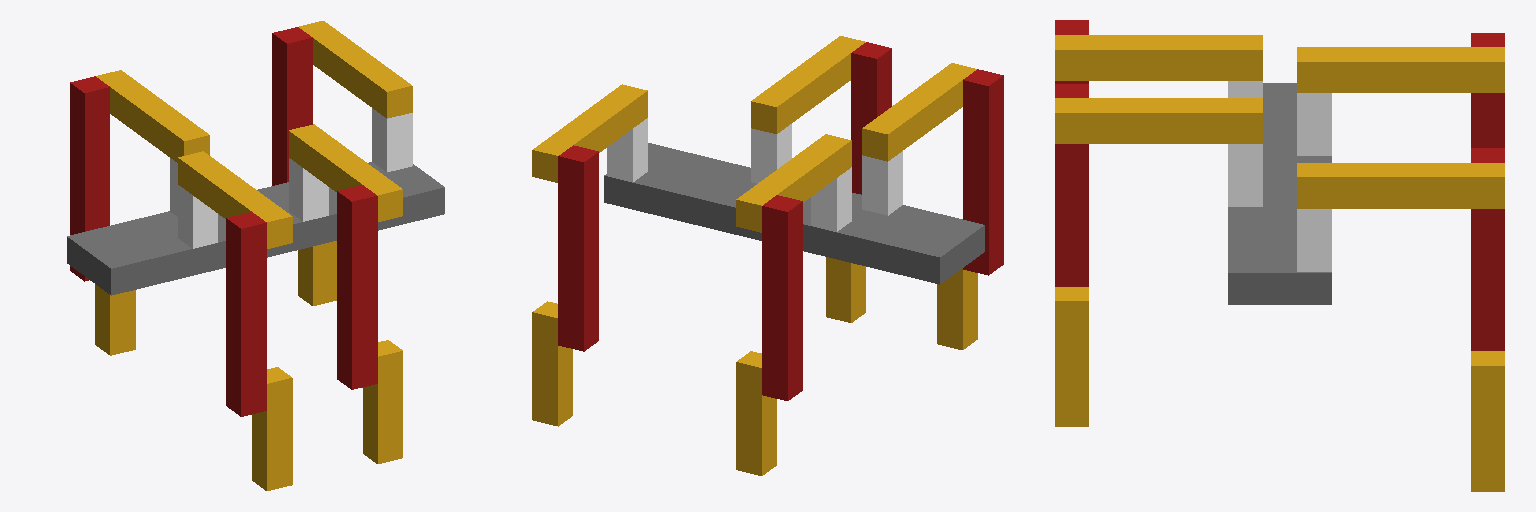
URDF robot description (v0):
<?xml version="1.0" encoding="utf-8"?>
<!-- =================================================================================== -->
<!-- |    This document was autogenerated by xacro from ../robots/v0variants/xacros/v0_4l_29.xacro | -->
<!-- |    EDITING THIS FILE BY HAND IS NOT RECOMMENDED                                 | -->
<!-- =================================================================================== -->
<robot name="v0">
  <material name="grey">
    <color rgba="0.5 0.5 0.5 1"/>
  </material>
  <material name="white">
    <color rgba="1 1 1 1"/>
  </material>
  <material name="yellow">
    <color rgba="0.91 0.7 0.14 1"/>
  </material>
  <material name="red">
    <color rgba="0.71 0.14 0.14 1"/>
  </material>
  <link name="body">
    <visual>
      <geometry>
        <box size="1.3 0.3 0.1"/>
      </geometry>
      <material name="grey"/>
      <origin rpy="0 0 0" xyz="0 0 0.7"/>
    </visual>
    <collision>
      <geometry>
        <box size="1.3 0.3 0.1"/>
      </geometry>
      <origin rpy="0 0 0" xyz="0 0 0.7"/>
    </collision>
    <inertial>
      <mass value="99.84"/>
      <inertia ixx="0.832" ixy="0.0" ixz="0.0" iyy="14.144" iyz="0.0" izz="14.8096"/>
    </inertial>
  </link>
  <link name="l1_segment_1">
    <visual>
      <geometry>
        <box size="0.1 0.1 0.2"/>
      </geometry>
      <material name="white"/>
      <origin rpy="0 0 0" xyz="0 0 0.1"/>
    </visual>
    <collision>
      <geometry>
        <box size="0.1 0.1 0.2"/>
      </geometry>
      <origin rpy="0 0 0" xyz="0 0 0.1"/>
    </collision>
    <inertial>
      <mass value="5.12"/>
      <inertia ixx="0.0213333333333" ixy="0.0" ixz="0.0" iyy="0.0213333333333" iyz="0.0" izz="0.00853333333333"/>
    </inertial>
  </link>
  <joint name="l1_base_to_joint_1" type="fixed">
    <parent link="body"/>
    <child link="l1_segment_1"/>
    <origin rpy="0 0 0" xyz="-0.19955909804659955 0.1 0.75"/>
  </joint>
  <link name="l1_segment_2_HIP">
    <visual>
      <geometry>
        <box size="0.1 0.6 0.1"/>
      </geometry>
      <material name="yellow"/>
      <origin rpy="0 0 0" xyz="0 0.25 0"/>
    </visual>
    <collision>
      <geometry>
        <box size="0.1 0.6 0.1"/>
      </geometry>
      <origin rpy="0 0 0" xyz="0 0.25 0"/>
    </collision>
    <inertial>
      <mass value="15.36"/>
      <inertia ixx="0.4736" ixy="0.0" ixz="0.0" iyy="0.0256" iyz="0.0" izz="0.4736"/>
    </inertial>
  </link>
  <joint name="l1_joint_1_to_2" type="revolute">
    <parent link="l1_segment_1"/>
    <child link="l1_segment_2_HIP"/>
    <origin rpy="0 0 0" xyz="0 0 0.25"/>
    <axis xyz="0.0 0.0 1.0"/>
    <limit effort="2048" lower="-1.2" upper="1.2" velocity="20"/>
  </joint>
  <link name="l1_segment_3_THIGH">
    <visual>
      <geometry>
        <box size="0.1 0.1 0.7"/>
      </geometry>
      <material name="red"/>
      <origin rpy="0 0 0" xyz="0 0 -0.3"/>
    </visual>
    <collision>
      <geometry>
        <box size="0.1 0.1 0.7"/>
      </geometry>
      <origin rpy="0 0 0" xyz="0 0 -0.3"/>
    </collision>
    <inertial>
      <mass value="17.92"/>
      <inertia ixx="0.746666666667" ixy="0.0" ixz="0.0" iyy="0.746666666667" iyz="0.0" izz="0.0298666666667"/>
    </inertial>
  </link>
  <joint name="l1_joint_2_to_3" type="revolute">
    <parent link="l1_segment_2_HIP"/>
    <child link="l1_segment_3_THIGH"/>
    <origin rpy="0 0 0" xyz="-0.1 0.5 0"/>
    <axis xyz="1.0 0.0 0.0"/>
    <limit effort="2048" lower="-0.2" upper="0.75" velocity="20"/>
  </joint>
  <link name="l1_segment_4_FOOT">
    <visual>
      <geometry>
        <box size="0.1 0.1 0.4"/>
      </geometry>
      <material name="yellow"/>
      <origin rpy="0 0 0" xyz="0 0 -0.2"/>
    </visual>
    <collision>
      <geometry>
        <box size="0.1 0.1 0.4"/>
      </geometry>
      <origin rpy="0 0 0" xyz="0 0 -0.2"/>
    </collision>
    <inertial>
      <mass value="10.24"/>
      <inertia ixx="0.145066666667" ixy="0.0" ixz="0.0" iyy="0.145066666667" iyz="0.0" izz="0.0170666666667"/>
    </inertial>
  </link>
  <joint name="l1_joint_3_to_4_FOOT" type="revolute">
    <parent link="l1_segment_3_THIGH"/>
    <child link="l1_segment_4_FOOT"/>
    <origin rpy="0 0 0" xyz="0.1 0 -0.55"/>
    <axis xyz="1.0 0.0 0.0"/>
    <limit effort="2048" lower="-0.2" upper="0.5" velocity="20"/>
  </joint>
  <link name="r2_segment_1">
    <visual>
      <geometry>
        <box size="0.1 0.1 0.2"/>
      </geometry>
      <material name="white"/>
      <origin rpy="0 0 0" xyz="0 0 0.1"/>
    </visual>
    <collision>
      <geometry>
        <box size="0.1 0.1 0.2"/>
      </geometry>
      <origin rpy="0 0 0" xyz="0 0 0.1"/>
    </collision>
    <inertial>
      <mass value="5.12"/>
      <inertia ixx="0.0213333333333" ixy="0.0" ixz="0.0" iyy="0.0213333333333" iyz="0.0" izz="0.00853333333333"/>
    </inertial>
  </link>
  <joint name="r2_base_to_joint_1" type="fixed">
    <parent link="body"/>
    <child link="r2_segment_1"/>
    <origin rpy="0 0 0" xyz="0.147642202921486 -0.1 0.75"/>
  </joint>
  <link name="r2_segment_2_HIP">
    <visual>
      <geometry>
        <box size="0.1 0.6 0.1"/>
      </geometry>
      <material name="yellow"/>
      <origin rpy="0 0 0" xyz="0 -0.25 0"/>
    </visual>
    <collision>
      <geometry>
        <box size="0.1 0.6 0.1"/>
      </geometry>
      <origin rpy="0 0 0" xyz="0 -0.25 0"/>
    </collision>
    <inertial>
      <mass value="15.36"/>
      <inertia ixx="0.4736" ixy="0.0" ixz="0.0" iyy="0.0256" iyz="0.0" izz="0.4736"/>
    </inertial>
  </link>
  <joint name="r2_joint_1_to_2" type="revolute">
    <parent link="r2_segment_1"/>
    <child link="r2_segment_2_HIP"/>
    <origin rpy="0 0 0" xyz="0 0 0.25"/>
    <axis xyz="0.0 0.0 1.0"/>
    <limit effort="2048" lower="-1.2" upper="1.2" velocity="20"/>
  </joint>
  <link name="r2_segment_3_THIGH">
    <visual>
      <geometry>
        <box size="0.1 0.1 0.7"/>
      </geometry>
      <material name="red"/>
      <origin rpy="0 0 0" xyz="0 0 -0.3"/>
    </visual>
    <collision>
      <geometry>
        <box size="0.1 0.1 0.7"/>
      </geometry>
      <origin rpy="0 0 0" xyz="0 0 -0.3"/>
    </collision>
    <inertial>
      <mass value="17.92"/>
      <inertia ixx="0.746666666667" ixy="0.0" ixz="0.0" iyy="0.746666666667" iyz="0.0" izz="0.0298666666667"/>
    </inertial>
  </link>
  <joint name="r2_joint_2_to_3" type="revolute">
    <parent link="r2_segment_2_HIP"/>
    <child link="r2_segment_3_THIGH"/>
    <origin rpy="0 0 0" xyz="-0.1 -0.5 0"/>
    <axis xyz="1.0 0.0 0.0"/>
    <limit effort="2048" lower="-0.75" upper="0.2" velocity="20"/>
  </joint>
  <link name="r2_segment_4_FOOT">
    <visual>
      <geometry>
        <box size="0.1 0.1 0.4"/>
      </geometry>
      <material name="yellow"/>
      <origin rpy="0 0 0" xyz="0 0 -0.2"/>
    </visual>
    <collision>
      <geometry>
        <box size="0.1 0.1 0.4"/>
      </geometry>
      <origin rpy="0 0 0" xyz="0 0 -0.2"/>
    </collision>
    <inertial>
      <mass value="10.24"/>
      <inertia ixx="0.145066666667" ixy="0.0" ixz="0.0" iyy="0.145066666667" iyz="0.0" izz="0.0170666666667"/>
    </inertial>
  </link>
  <joint name="r2_joint_3_to_4_FOOT" type="revolute">
    <parent link="r2_segment_3_THIGH"/>
    <child link="r2_segment_4_FOOT"/>
    <origin rpy="0 0 0" xyz="0.1 0 -0.55"/>
    <axis xyz="1.0 0.0 0.0"/>
    <limit effort="2048" lower="-0.5" upper="0.2" velocity="20"/>
  </joint>
  <link name="l3_segment_1">
    <visual>
      <geometry>
        <box size="0.1 0.1 0.2"/>
      </geometry>
      <material name="white"/>
      <origin rpy="0 0 0" xyz="0 0 0.1"/>
    </visual>
    <collision>
      <geometry>
        <box size="0.1 0.1 0.2"/>
      </geometry>
      <origin rpy="0 0 0" xyz="0 0 0.1"/>
    </collision>
    <inertial>
      <mass value="5.12"/>
      <inertia ixx="0.0213333333333" ixy="0.0" ixz="0.0" iyy="0.0213333333333" iyz="0.0" izz="0.00853333333333"/>
    </inertial>
  </link>
  <joint name="l3_base_to_joint_1" type="fixed">
    <parent link="body"/>
    <child link="l3_segment_1"/>
    <origin rpy="0 0 0" xyz="0.5884262026182484 0.1 0.75"/>
  </joint>
  <link name="l3_segment_2_HIP">
    <visual>
      <geometry>
        <box size="0.1 0.6 0.1"/>
      </geometry>
      <material name="yellow"/>
      <origin rpy="0 0 0" xyz="0 0.25 0"/>
    </visual>
    <collision>
      <geometry>
        <box size="0.1 0.6 0.1"/>
      </geometry>
      <origin rpy="0 0 0" xyz="0 0.25 0"/>
    </collision>
    <inertial>
      <mass value="15.36"/>
      <inertia ixx="0.4736" ixy="0.0" ixz="0.0" iyy="0.0256" iyz="0.0" izz="0.4736"/>
    </inertial>
  </link>
  <joint name="l3_joint_1_to_2" type="revolute">
    <parent link="l3_segment_1"/>
    <child link="l3_segment_2_HIP"/>
    <origin rpy="0 0 0" xyz="0 0 0.25"/>
    <axis xyz="0.0 0.0 1.0"/>
    <limit effort="2048" lower="-1.2" upper="1.2" velocity="20"/>
  </joint>
  <link name="l3_segment_3_THIGH">
    <visual>
      <geometry>
        <box size="0.1 0.1 0.7"/>
      </geometry>
      <material name="red"/>
      <origin rpy="0 0 0" xyz="0 0 -0.3"/>
    </visual>
    <collision>
      <geometry>
        <box size="0.1 0.1 0.7"/>
      </geometry>
      <origin rpy="0 0 0" xyz="0 0 -0.3"/>
    </collision>
    <inertial>
      <mass value="17.92"/>
      <inertia ixx="0.746666666667" ixy="0.0" ixz="0.0" iyy="0.746666666667" iyz="0.0" izz="0.0298666666667"/>
    </inertial>
  </link>
  <joint name="l3_joint_2_to_3" type="revolute">
    <parent link="l3_segment_2_HIP"/>
    <child link="l3_segment_3_THIGH"/>
    <origin rpy="0 0 0" xyz="-0.1 0.5 0"/>
    <axis xyz="1.0 0.0 0.0"/>
    <limit effort="2048" lower="-0.2" upper="0.75" velocity="20"/>
  </joint>
  <link name="l3_segment_4_FOOT">
    <visual>
      <geometry>
        <box size="0.1 0.1 0.4"/>
      </geometry>
      <material name="yellow"/>
      <origin rpy="0 0 0" xyz="0 0 -0.2"/>
    </visual>
    <collision>
      <geometry>
        <box size="0.1 0.1 0.4"/>
      </geometry>
      <origin rpy="0 0 0" xyz="0 0 -0.2"/>
    </collision>
    <inertial>
      <mass value="10.24"/>
      <inertia ixx="0.145066666667" ixy="0.0" ixz="0.0" iyy="0.145066666667" iyz="0.0" izz="0.0170666666667"/>
    </inertial>
  </link>
  <joint name="l3_joint_3_to_4_FOOT" type="revolute">
    <parent link="l3_segment_3_THIGH"/>
    <child link="l3_segment_4_FOOT"/>
    <origin rpy="0 0 0" xyz="0.1 0 -0.55"/>
    <axis xyz="1.0 0.0 0.0"/>
    <limit effort="2048" lower="-0.2" upper="0.5" velocity="20"/>
  </joint>
  <link name="r4_segment_1">
    <visual>
      <geometry>
        <box size="0.1 0.1 0.2"/>
      </geometry>
      <material name="white"/>
      <origin rpy="0 0 0" xyz="0 0 0.1"/>
    </visual>
    <collision>
      <geometry>
        <box size="0.1 0.1 0.2"/>
      </geometry>
      <origin rpy="0 0 0" xyz="0 0 0.1"/>
    </collision>
    <inertial>
      <mass value="5.12"/>
      <inertia ixx="0.0213333333333" ixy="0.0" ixz="0.0" iyy="0.0213333333333" iyz="0.0" izz="0.00853333333333"/>
    </inertial>
  </link>
  <joint name="r4_base_to_joint_1" type="fixed">
    <parent link="body"/>
    <child link="r4_segment_1"/>
    <origin rpy="0 0 0" xyz="-0.2830087958097117 -0.1 0.75"/>
  </joint>
  <link name="r4_segment_2_HIP">
    <visual>
      <geometry>
        <box size="0.1 0.6 0.1"/>
      </geometry>
      <material name="yellow"/>
      <origin rpy="0 0 0" xyz="0 -0.25 0"/>
    </visual>
    <collision>
      <geometry>
        <box size="0.1 0.6 0.1"/>
      </geometry>
      <origin rpy="0 0 0" xyz="0 -0.25 0"/>
    </collision>
    <inertial>
      <mass value="15.36"/>
      <inertia ixx="0.4736" ixy="0.0" ixz="0.0" iyy="0.0256" iyz="0.0" izz="0.4736"/>
    </inertial>
  </link>
  <joint name="r4_joint_1_to_2" type="revolute">
    <parent link="r4_segment_1"/>
    <child link="r4_segment_2_HIP"/>
    <origin rpy="0 0 0" xyz="0 0 0.25"/>
    <axis xyz="0.0 0.0 1.0"/>
    <limit effort="2048" lower="-1.2" upper="1.2" velocity="20"/>
  </joint>
  <link name="r4_segment_3_THIGH">
    <visual>
      <geometry>
        <box size="0.1 0.1 0.7"/>
      </geometry>
      <material name="red"/>
      <origin rpy="0 0 0" xyz="0 0 -0.3"/>
    </visual>
    <collision>
      <geometry>
        <box size="0.1 0.1 0.7"/>
      </geometry>
      <origin rpy="0 0 0" xyz="0 0 -0.3"/>
    </collision>
    <inertial>
      <mass value="17.92"/>
      <inertia ixx="0.746666666667" ixy="0.0" ixz="0.0" iyy="0.746666666667" iyz="0.0" izz="0.0298666666667"/>
    </inertial>
  </link>
  <joint name="r4_joint_2_to_3" type="revolute">
    <parent link="r4_segment_2_HIP"/>
    <child link="r4_segment_3_THIGH"/>
    <origin rpy="0 0 0" xyz="-0.1 -0.5 0"/>
    <axis xyz="1.0 0.0 0.0"/>
    <limit effort="2048" lower="-0.75" upper="0.2" velocity="20"/>
  </joint>
  <link name="r4_segment_4_FOOT">
    <visual>
      <geometry>
        <box size="0.1 0.1 0.4"/>
      </geometry>
      <material name="yellow"/>
      <origin rpy="0 0 0" xyz="0 0 -0.2"/>
    </visual>
    <collision>
      <geometry>
        <box size="0.1 0.1 0.4"/>
      </geometry>
      <origin rpy="0 0 0" xyz="0 0 -0.2"/>
    </collision>
    <inertial>
      <mass value="10.24"/>
      <inertia ixx="0.145066666667" ixy="0.0" ixz="0.0" iyy="0.145066666667" iyz="0.0" izz="0.0170666666667"/>
    </inertial>
  </link>
  <joint name="r4_joint_3_to_4_FOOT" type="revolute">
    <parent link="r4_segment_3_THIGH"/>
    <child link="r4_segment_4_FOOT"/>
    <origin rpy="0 0 0" xyz="0.1 0 -0.55"/>
    <axis xyz="1.0 0.0 0.0"/>
    <limit effort="2048" lower="-0.5" upper="0.2" velocity="20"/>
  </joint>
</robot>

--- Facts derived from the render (not from the file) ---
3 views of the same robot in one strip: view 1: azimuth 30°, elevation 25°; view 2: azimuth 150°, elevation 25°; view 3: azimuth 270°, elevation 25° (orthographic).
Model v0 with 17 links and 16 joints (12 revolute, 4 fixed), rooted at body, posed all joints at 0.
Visible links, largest first — view 1: body, r2_segment_3_THIGH, r4_segment_3_THIGH, l1_segment_3_THIGH, l3_segment_3_THIGH, l3_segment_2_HIP, l1_segment_2_HIP, r4_segment_2_HIP, r2_segment_2_HIP, r4_segment_4_FOOT, r2_segment_4_FOOT, l1_segment_4_FOOT (+4 smaller); view 2: body, l1_segment_3_THIGH, l3_segment_3_THIGH, r4_segment_3_THIGH, r4_segment_2_HIP, r2_segment_2_HIP, l1_segment_2_HIP, l3_segment_2_HIP, l3_segment_4_FOOT, l1_segment_4_FOOT, r2_segment_3_THIGH, r4_segment_4_FOOT (+5 smaller); view 3: body, l1_segment_2_HIP, r2_segment_2_HIP, l3_segment_2_HIP, r4_segment_2_HIP, r2_segment_3_THIGH, l3_segment_3_THIGH, l3_segment_4_FOOT, r2_segment_4_FOOT, l1_segment_3_THIGH, l1_segment_1, r2_segment_1 (+3 smaller).
Boxes of the visible links, x1,y1,x2,y2 form: body: [67, 162, 444, 295]; r2_segment_3_THIGH: [337, 185, 377, 389]; r4_segment_3_THIGH: [226, 212, 266, 416]; l1_segment_3_THIGH: [70, 76, 109, 281]; l3_segment_3_THIGH: [272, 27, 312, 185]; l3_segment_2_HIP: [299, 21, 412, 118]; l1_segment_2_HIP: [96, 70, 209, 162]; r4_segment_2_HIP: [178, 151, 292, 248]; r2_segment_2_HIP: [289, 124, 402, 221]; r4_segment_4_FOOT: [252, 367, 292, 490]; r2_segment_4_FOOT: [363, 340, 402, 463]; l1_segment_4_FOOT: [95, 284, 135, 355]; body: [604, 143, 984, 284]; l1_segment_3_THIGH: [762, 195, 802, 400]; l3_segment_3_THIGH: [558, 145, 598, 351]; r4_segment_3_THIGH: [963, 69, 1003, 275]; r4_segment_2_HIP: [862, 63, 976, 161]; r2_segment_2_HIP: [751, 36, 865, 133]; l1_segment_2_HIP: [736, 134, 851, 232]; l3_segment_2_HIP: [532, 84, 647, 182]; l3_segment_4_FOOT: [532, 301, 572, 426]; l1_segment_4_FOOT: [736, 351, 776, 475]; r2_segment_3_THIGH: [851, 42, 891, 194]; r4_segment_4_FOOT: [937, 268, 977, 349]; body: [1228, 83, 1331, 304]; l1_segment_2_HIP: [1297, 47, 1504, 92]; r2_segment_2_HIP: [1055, 98, 1262, 143]; l3_segment_2_HIP: [1297, 163, 1504, 208]; r4_segment_2_HIP: [1055, 35, 1262, 80]; r2_segment_3_THIGH: [1055, 84, 1088, 286]; l3_segment_3_THIGH: [1471, 148, 1504, 350]; l3_segment_4_FOOT: [1471, 351, 1504, 491]; r2_segment_4_FOOT: [1055, 287, 1088, 426]; l1_segment_3_THIGH: [1471, 33, 1504, 147]; l1_segment_1: [1297, 93, 1331, 155]; r2_segment_1: [1228, 144, 1262, 206].
Size in the robot's own frame: 1.3 by 1.3 by 1 metres.
Geometry: primitives only (box / cylinder / sphere), no mesh files.